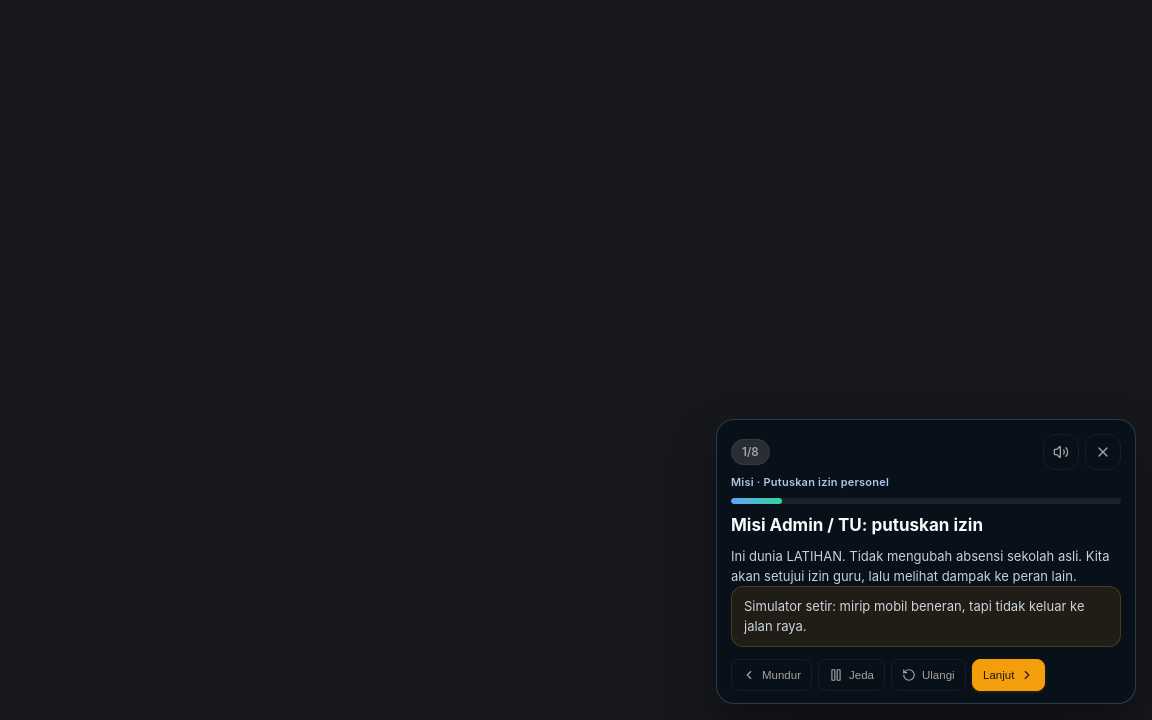
Scenario: DemoCoach › menampilkan status menunggu aksi pada langkah wajib
The width and height of the screenshot is (1152, 720).
Check: the dialog named "Tutorial lab" is shown, box [716,419,1136,704]
Click the button "Lanjut" at (1008, 675), box [972,659,1045,691]
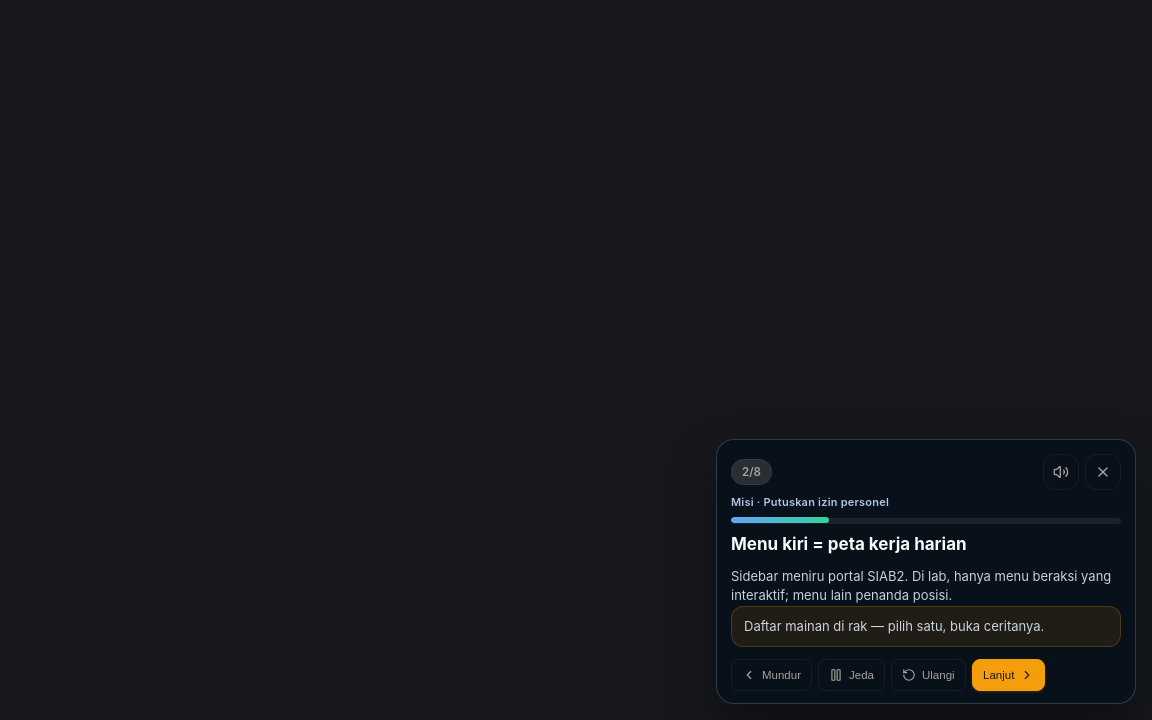
Click the button "Lanjut" at (1008, 675), box [972,659,1045,691]
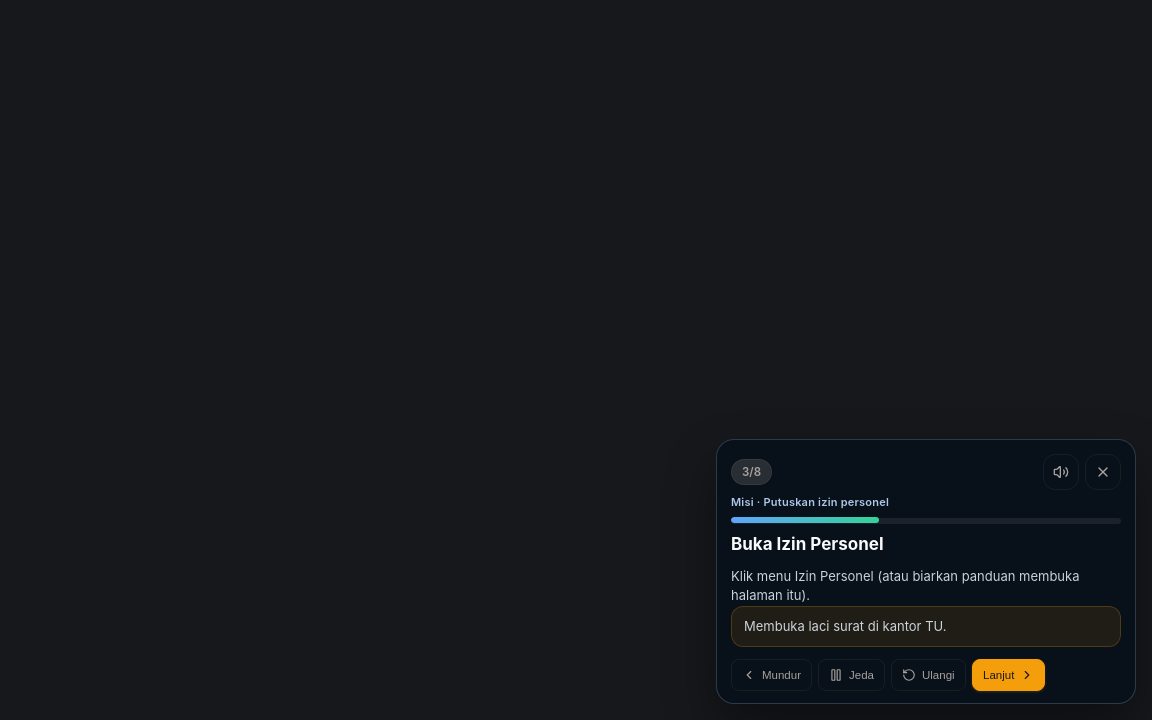
Click the button "Lanjut" at (1008, 675), box [972,659,1045,691]
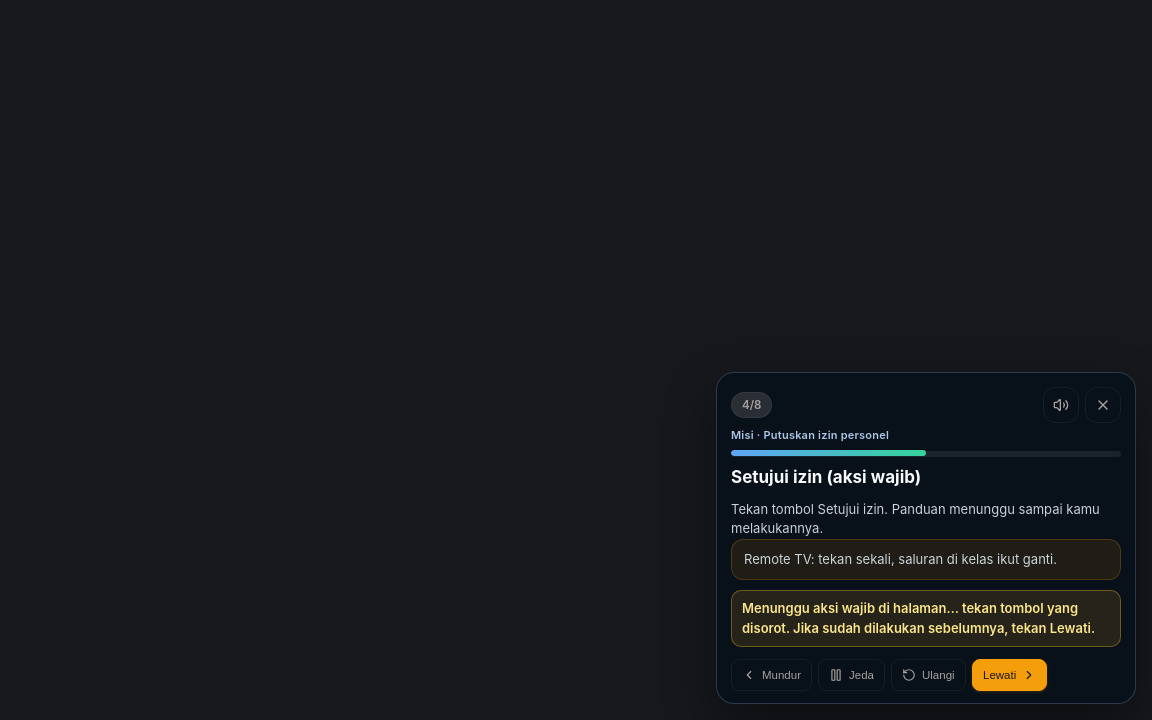
Check: the heading "Setujui izin (aksi wajib)" is shown, box [731,467,921,487]
Check: the text "Menunggu aksi wajib" is shown, box [742,600,1095,636]
Check: the button "Lewati" is shown, box [972,659,1047,691]
